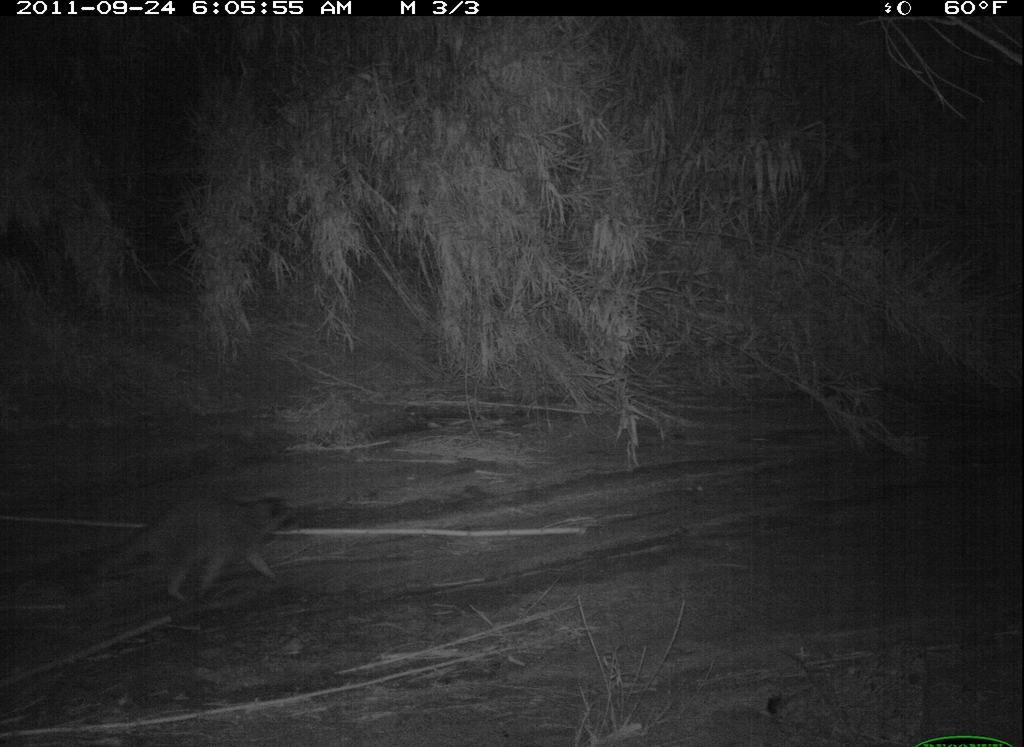raccoon: (88, 478, 328, 610)
